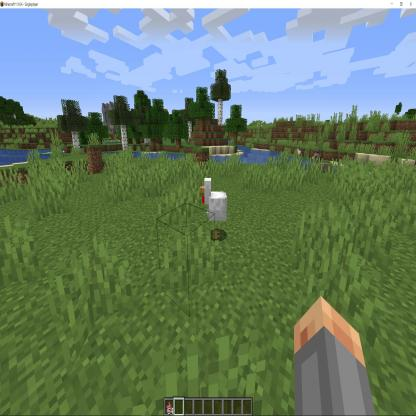minecraft-pigs: (199, 176, 228, 242), (296, 147, 301, 156)
